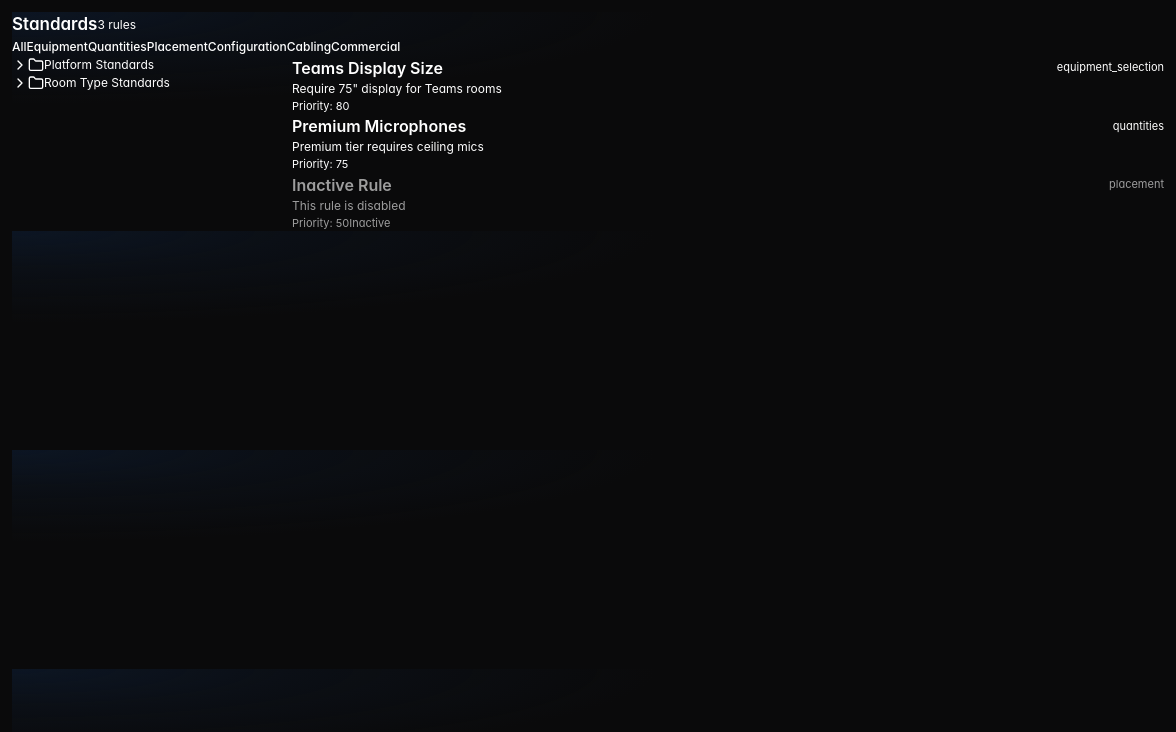
Test: StandardsList › Folder Expansion › collapses folder on second click
This screenshot has width=1176, height=732.
Click the list item "Platform Standards".
click(83, 64)  # box x1=12 y1=56 x2=154 y2=72
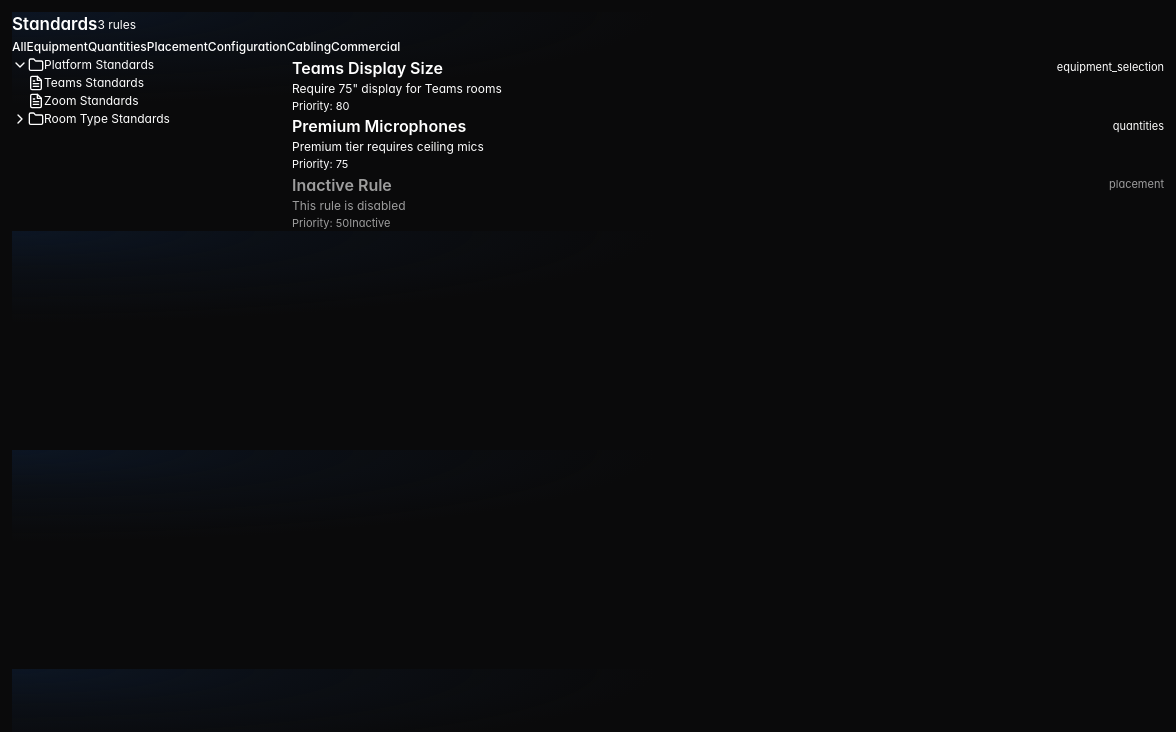
Click the list item "Platform Standards".
click(83, 64)  # box x1=12 y1=56 x2=154 y2=72
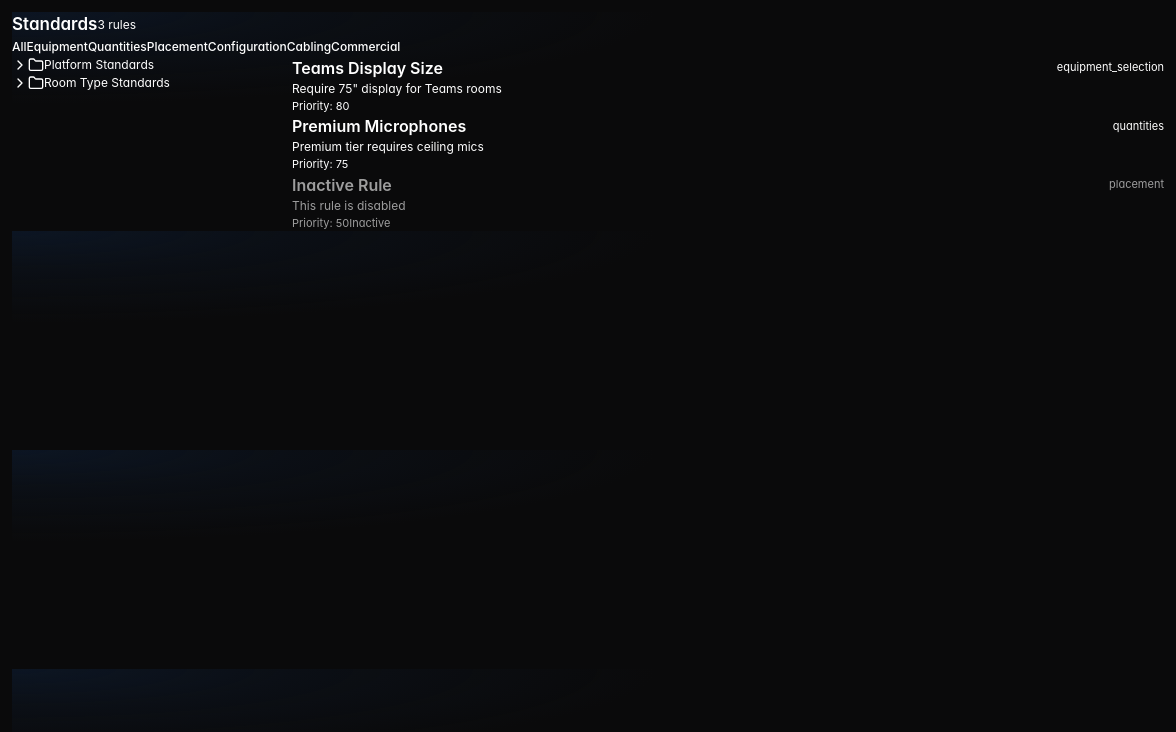
Result: the list item "Platform Standards" is collapsed at x1=12 y1=56 x2=154 y2=72
